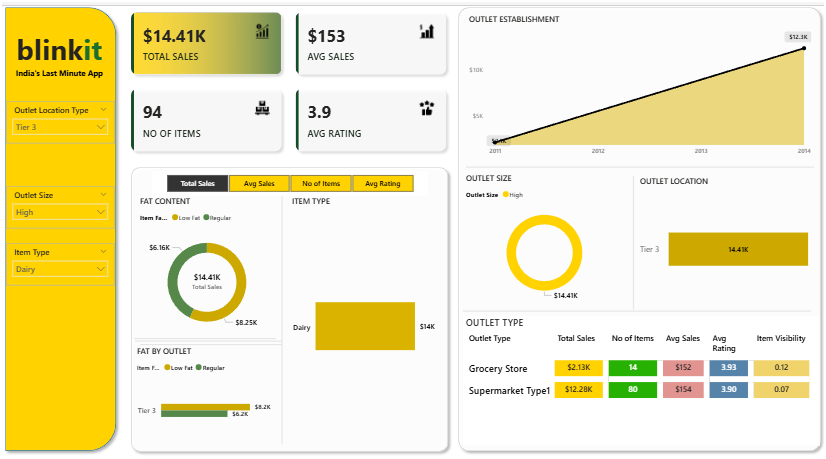

The page's visual inventory and layout, read from the dashboard file:
{"tool":"powerbi","page":{"name":"Page 1","canvas":[1400,800],"ordinal":0},"visuals":[{"type":"shape","box":[0,25.7,205.8,769.8],"z":0},{"type":"textbox","box":[14.7,66.1,170.9,79],"z":1000},{"type":"textbox","box":[14.7,132.3,170.9,27.6],"z":2000},{"type":"cardVisual","fields":{"Data":["BlinkIT Grocery Data.Total Sales","BlinkIT Grocery Data.Avg Sales","BlinkIT Grocery Data.No of Items","BlinkIT Grocery Data.Avg Rating"]},"box":[205.8,25.7,569.6,270.1],"z":3000},{"type":"shape","box":[213.1,295.8,554.9,499.7],"z":4000},{"type":"donutChart","title":"FAT CONTENT","fields":{"Y":["BlinkIT Grocery Data.Total Sales"],"Category":["BlinkIT Grocery Data.Item Fat Content"]},"box":[231.5,354.6,237,248],"z":5000},{"type":"slicer","fields":{"Values":["Metrics.Metrics"]},"box":[257.2,312.3,466.7,42.3],"z":6000},{"type":"cardVisual","fields":{"Data":["BlinkIT Grocery Data.Total Sales"]},"box":[303.1,466.7,95.5,58.8],"z":7000},{"type":"clusteredBarChart","title":"FAT BY OUTLET","fields":{"Y":["BlinkIT Grocery Data.Total Sales"],"Series":["BlinkIT Grocery Data.Item Fat Content"],"Category":["BlinkIT Grocery Data.Outlet Location Type"]},"box":[227.8,608.1,240.7,167.2],"z":8000},{"type":"shape","box":[227.8,582.4,240.7,25.7],"z":9000},{"type":"shape","box":[466.7,354.6,23.9,420.7],"z":10000},{"type":"barChart","title":"ITEM TYPE","fields":{"Y":["BlinkIT Grocery Data.Total Sales"],"Category":["BlinkIT Grocery Data.Item Type"]},"box":[490.6,354.6,259.1,420.7],"z":11000},{"type":"shape","box":[768,26,632,770],"z":12000},{"type":"lineChart","title":"OUTLET ESTABLISHMENT","fields":{"Y":["BlinkIT Grocery Data.Total Sales"],"Category":["BlinkIT Grocery Data.Outlet Establishment Year"]},"box":[790,46,590,250],"z":13000},{"type":"shape","box":[237.8,592.4,240.7,25.7],"z":14000},{"type":"shape","box":[790,298,590,14],"z":15000},{"type":"donutChart","title":"OUTLET SIZE","fields":{"Y":["BlinkIT Grocery Data.Total Sales"],"Category":["BlinkIT Grocery Data.Outlet Size"]},"box":[784,316,276,226],"z":16000},{"type":"shape","box":[1062,320,22,226],"z":17000},{"type":"funnel","title":"OUTLET LOCATION","fields":{"Category":["BlinkIT Grocery Data.Outlet Location Type"],"Y":["Sum(BlinkIT Grocery Data.Sales)"]},"box":[1080,320,300,230],"z":18000},{"type":"shape","box":[784,542,590,14],"z":19000},{"type":"shape","box":[228,594,250,14],"z":20000},{"type":"pivotTable","title":"OUTLET TYPE","fields":{"Rows":["BlinkIT Grocery Data.Outlet Type"],"Values":["BlinkIT Grocery Data.Total Sales","BlinkIT Grocery Data.No of Items","BlinkIT Grocery Data.Avg Sales","BlinkIT Grocery Data.Avg Rating","Avg(BlinkIT Grocery Data.Item Visibility)"]},"box":[784,558,605,220],"z":21000},{"type":"slicer","fields":{"Values":["BlinkIT Grocery Data.Outlet Location Type"]},"box":[10,194,184,72],"z":22000},{"type":"slicer","fields":{"Values":["BlinkIT Grocery Data.Outlet Size"]},"box":[10,338,184,72],"z":23000},{"type":"slicer","fields":{"Values":["BlinkIT Grocery Data.Item Type"]},"box":[10,434,184,72],"z":24000}]}

Visuals, with their boxes in screenshot pixels (x1, y1, x2, y2), scaled from the page's 1400x800 canvas onto the 826x459 screenshot:
shape: 0 15 121 456
textbox: 9 38 110 83
textbox: 9 76 110 92
cardVisual - BlinkIT Grocery Data.Total Sales x BlinkIT Grocery Data.Avg Sales: 121 15 457 170
shape: 126 170 453 456
"FAT CONTENT" donutChart: 137 203 276 346
slicer - Metrics.Metrics: 152 179 427 203
cardVisual - BlinkIT Grocery Data.Total Sales: 179 268 235 302
"FAT BY OUTLET" clusteredBarChart: 134 349 276 445
shape: 134 334 276 349
shape: 275 203 289 445
"ITEM TYPE" barChart: 289 203 442 445
shape: 453 15 825 457
"OUTLET ESTABLISHMENT" lineChart: 466 26 814 170
shape: 140 340 282 355
shape: 466 171 814 179
"OUTLET SIZE" donutChart: 463 181 625 311
shape: 627 184 640 313
"OUTLET LOCATION" funnel: 637 184 814 316
shape: 463 311 811 319
shape: 135 341 282 349
"OUTLET TYPE" pivotTable: 463 320 820 446
slicer - BlinkIT Grocery Data.Outlet Location Type: 6 111 114 153
slicer - BlinkIT Grocery Data.Outlet Size: 6 194 114 235
slicer - BlinkIT Grocery Data.Item Type: 6 249 114 290
